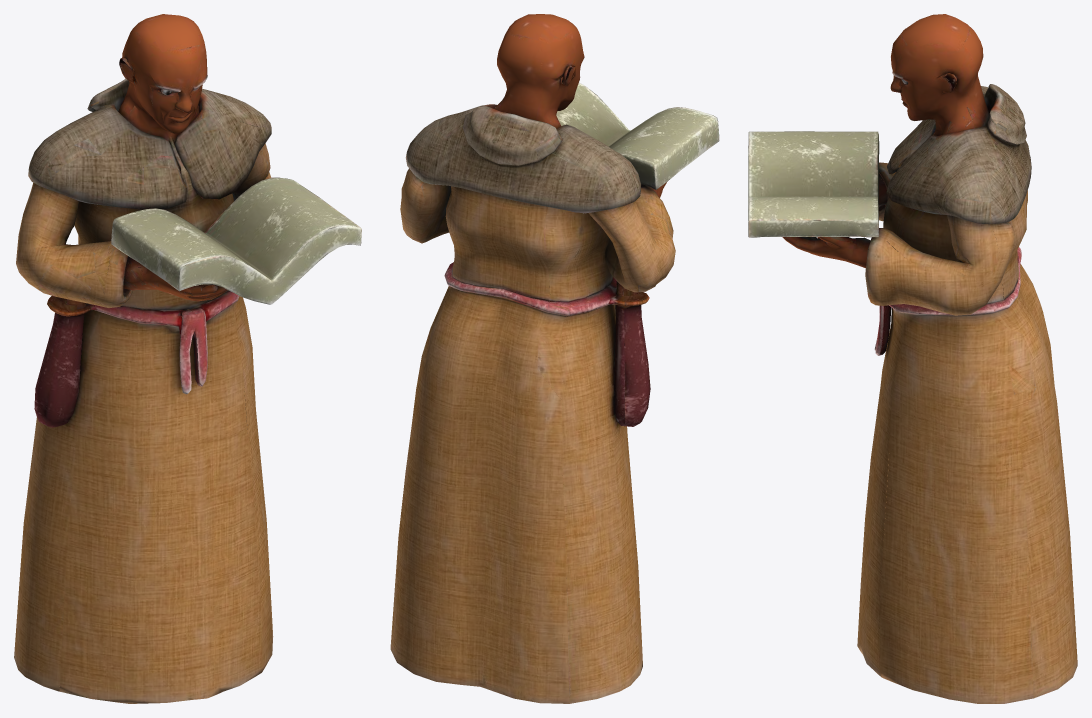
File: MZ4250 - Acolyte.glb
3 views of the same model, side by side, from view 1: azimuth 30°, elevation 25°; view 2: azimuth 150°, elevation 25°; view 3: azimuth 270°, elevation 25° (orthographic). The views are drawn at different scales.
Visible parts, largest first — view 1: Human_Acolyte_01; view 2: Human_Acolyte_01; view 3: Human_Acolyte_01.
Boxes of the visible parts, bbox=[...] form: Human_Acolyte_01: bbox=[14, 14, 361, 703]; Human_Acolyte_01: bbox=[390, 14, 719, 703]; Human_Acolyte_01: bbox=[748, 14, 1077, 703].
Size of the model in its own units: 0.4353 by 1.04 by 0.4963.
Materials: 1 (1 with a texture image).
